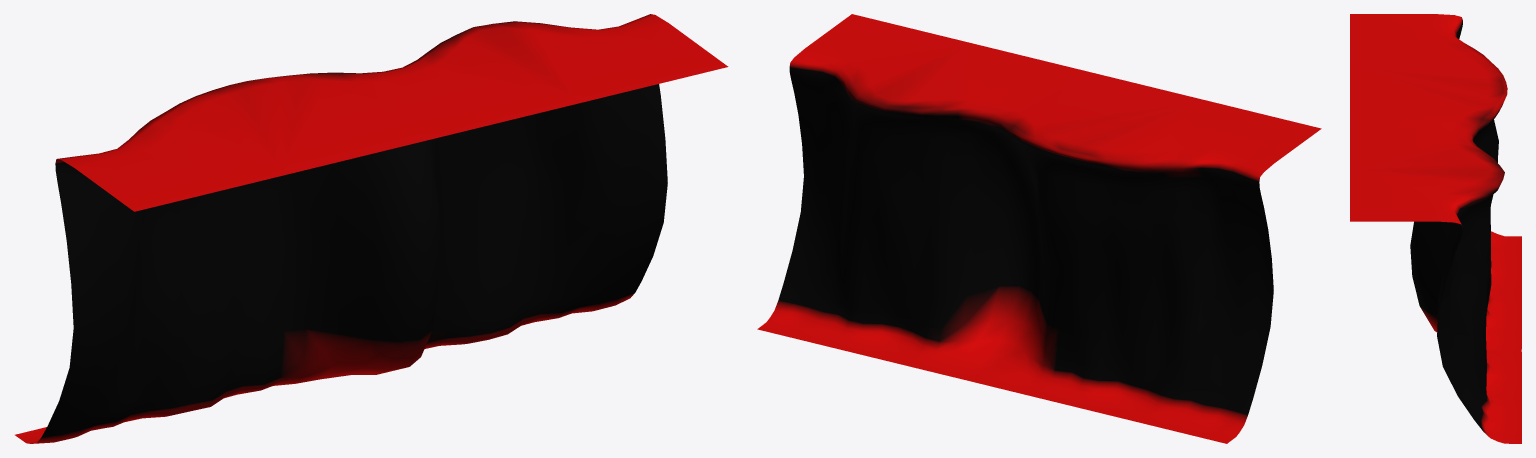
File: GroundCliff02C 2M Background.fbx
The picture shows the model from 3 angles, left to right: view 1: azimuth 30°, elevation 25°; view 2: azimuth 150°, elevation 25°; view 3: azimuth 270°, elevation 25°; orthographic projection. The views are drawn at different scales.
Parts seen in each view (by area): view 1: GroundCliff02C 2M Background; view 2: GroundCliff02C 2M Background; view 3: GroundCliff02C 2M Background.
Part boxes in pixels (x1,y1,x2,y2): GroundCliff02C 2M Background: (15,14,728,443); GroundCliff02C 2M Background: (757,14,1321,443); GroundCliff02C 2M Background: (1350,14,1521,443).
Bounding box in the file's own units: 4 × 2 × 1.4.
